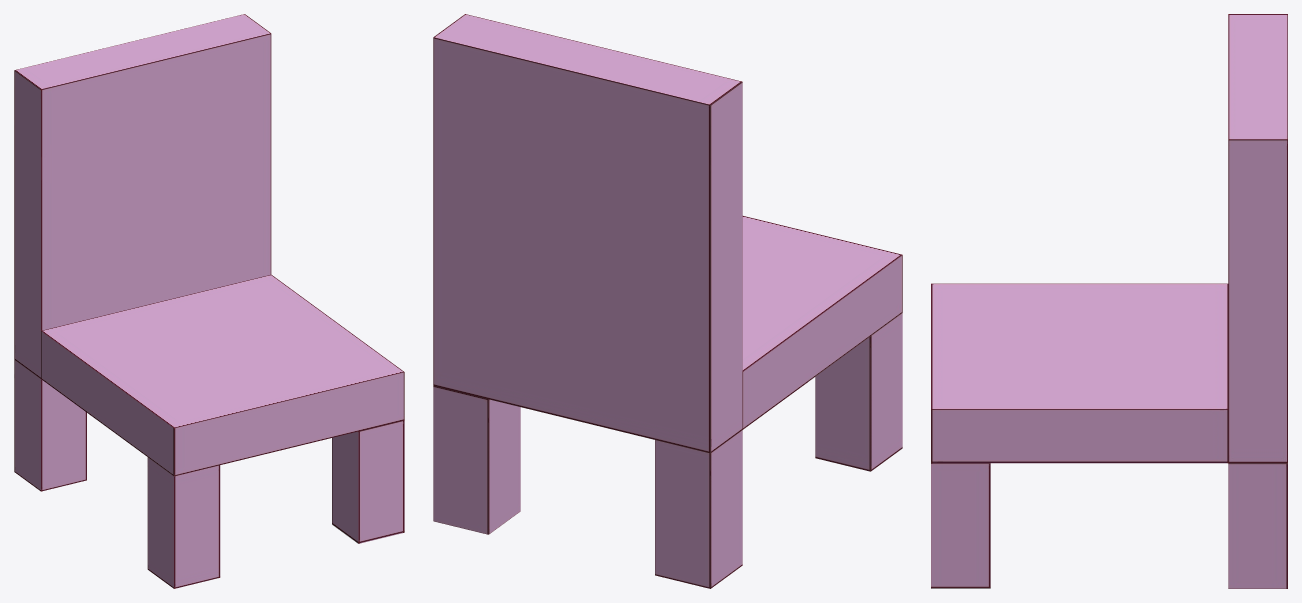
File: Head_Chair.fbx
3 views of the same model, side by side, from view 1: azimuth 30°, elevation 25°; view 2: azimuth 150°, elevation 25°; view 3: azimuth 270°, elevation 25° (orthographic). The views are drawn at different scales.
Parts seen in each view (by area): view 1: Box002; view 2: Box002; view 3: Box002.
Boxes of the visible parts, x1,y1,x2,y2 form: Box002: (14, 14, 404, 588); Box002: (433, 14, 902, 588); Box002: (931, 14, 1287, 588).
Size of the model in its own units: 30 by 50 by 36.
Materials: 1 (1 with a texture image).
